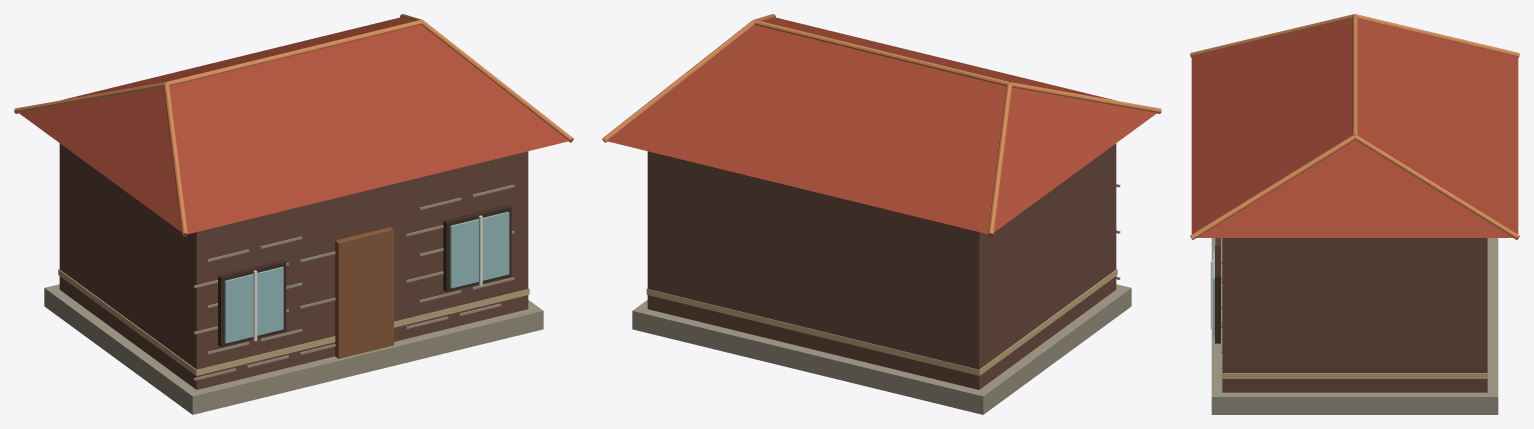
File: 002_laterite_cottage.glb
The picture shows the model from 3 angles, left to right: view 1: azimuth 30°, elevation 25°; view 2: azimuth 150°, elevation 25°; view 3: azimuth 270°, elevation 25°; orthographic projection. The views are drawn at different scales.
Parts seen in each view (by area): view 1: Laterite cottage; view 2: Laterite cottage; view 3: Laterite cottage.
Part boxes in pixels (left/top/right/bottom): Laterite cottage: left=14, top=14, right=573, bottom=414; Laterite cottage: left=602, top=14, right=1161, bottom=414; Laterite cottage: left=1190, top=14, right=1519, bottom=414.
Size of the model in its own units: 7.08 by 4.61 by 5.35.
